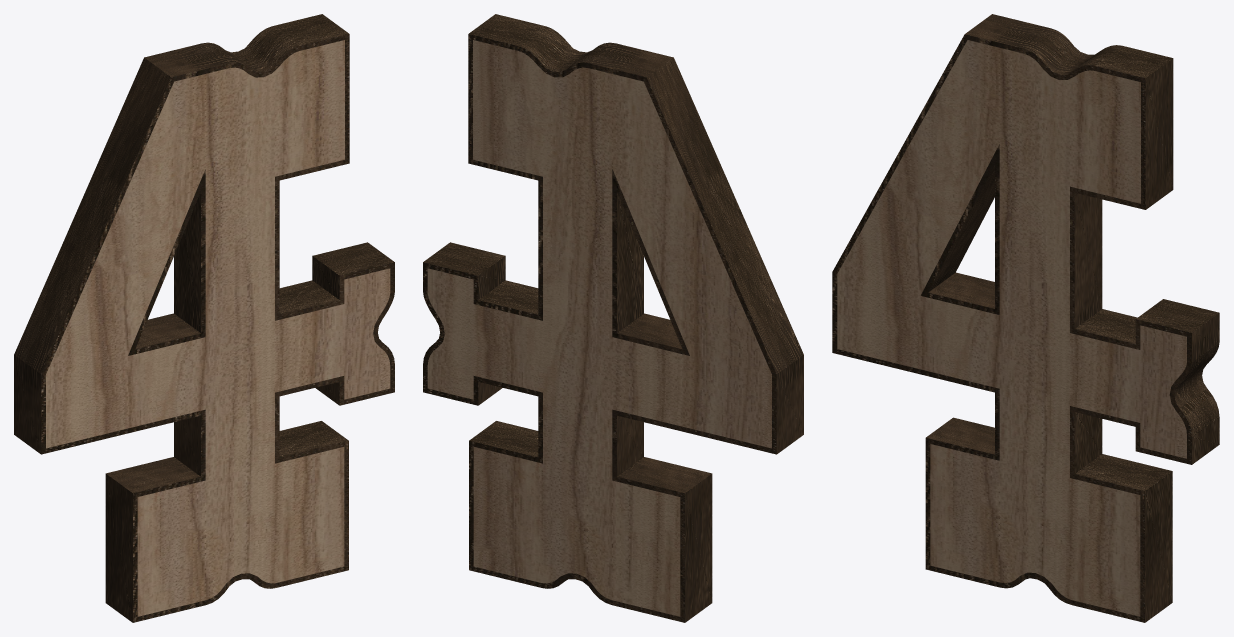
3 renders of one model, left to right at view 1: azimuth 30°, elevation 25°; view 2: azimuth 150°, elevation 25°; view 3: azimuth 330°, elevation 25°, orthographic.
Visible parts, largest first — view 1: 4, 4_outline; view 2: 4, 4_outline; view 3: 4, 4_outline.
Part boxes in pixels (x1,y1,x2,y2): 4: (46, 40, 390, 616); 4_outline: (14, 14, 394, 622); 4: (427, 40, 771, 616); 4_outline: (423, 14, 803, 622); 4: (837, 40, 1186, 616); 4_outline: (832, 14, 1219, 622).
Bounding box in the file's own units: 75.12 × 109 × 10.
Materials: 2 (2 with a texture image).
